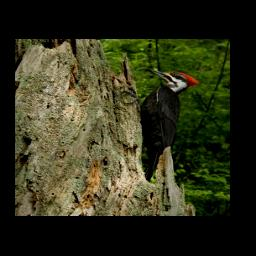Woodpecker: (121, 68, 201, 183)
